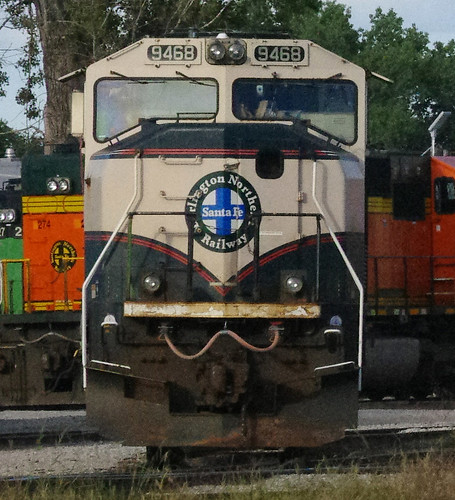train: (71, 24, 374, 457)
